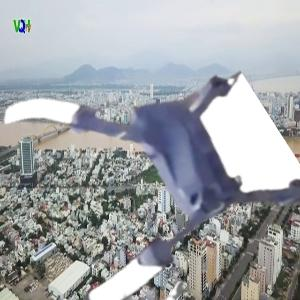drone: (7, 31, 276, 300)
